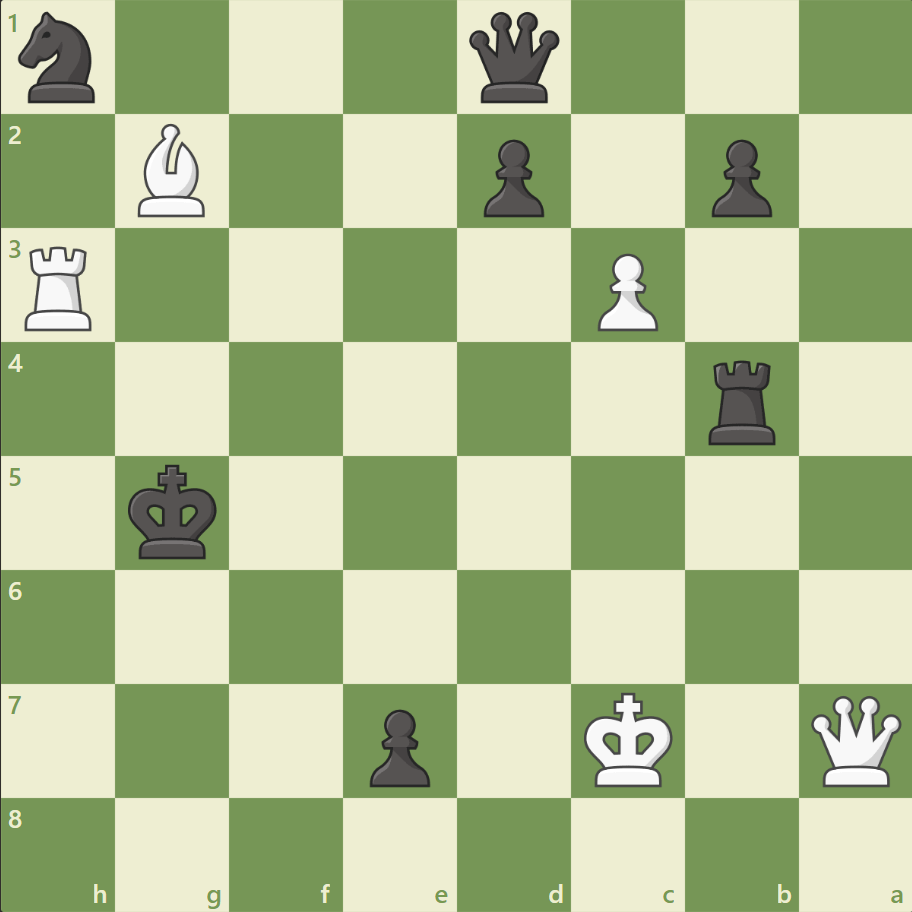B: (131, 120, 215, 222)
K: (579, 685, 679, 793)
P: (588, 246, 662, 337)
Q: (805, 690, 904, 789)
R: (19, 239, 102, 336)
k: (124, 458, 224, 566)
n: (11, 7, 108, 110)
p: (701, 132, 776, 223), (474, 132, 549, 223), (361, 700, 435, 791)
q: (464, 9, 563, 108)
r: (700, 352, 783, 449)
